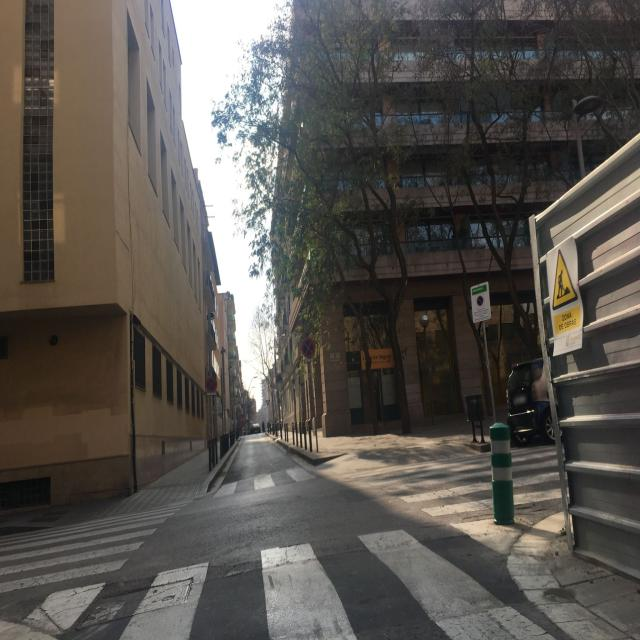forb_stopping: (476, 295, 483, 306)
forb_waiting: (300, 336, 316, 359)
